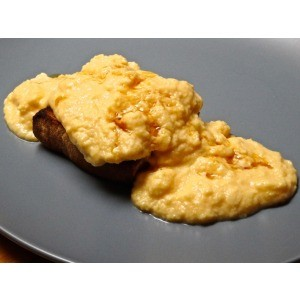egg_brain food: (58, 83, 250, 201)
